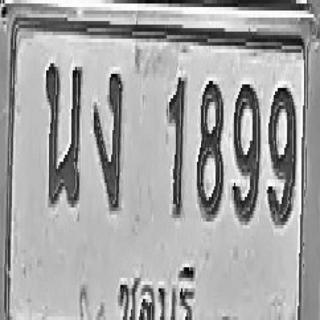A07: (92, 69, 123, 209)
A25: (45, 60, 82, 208)
N01: (167, 72, 186, 216)
N08: (196, 77, 223, 218)
N09: (267, 83, 296, 223), (232, 79, 260, 220)
P13: (112, 250, 201, 320)
